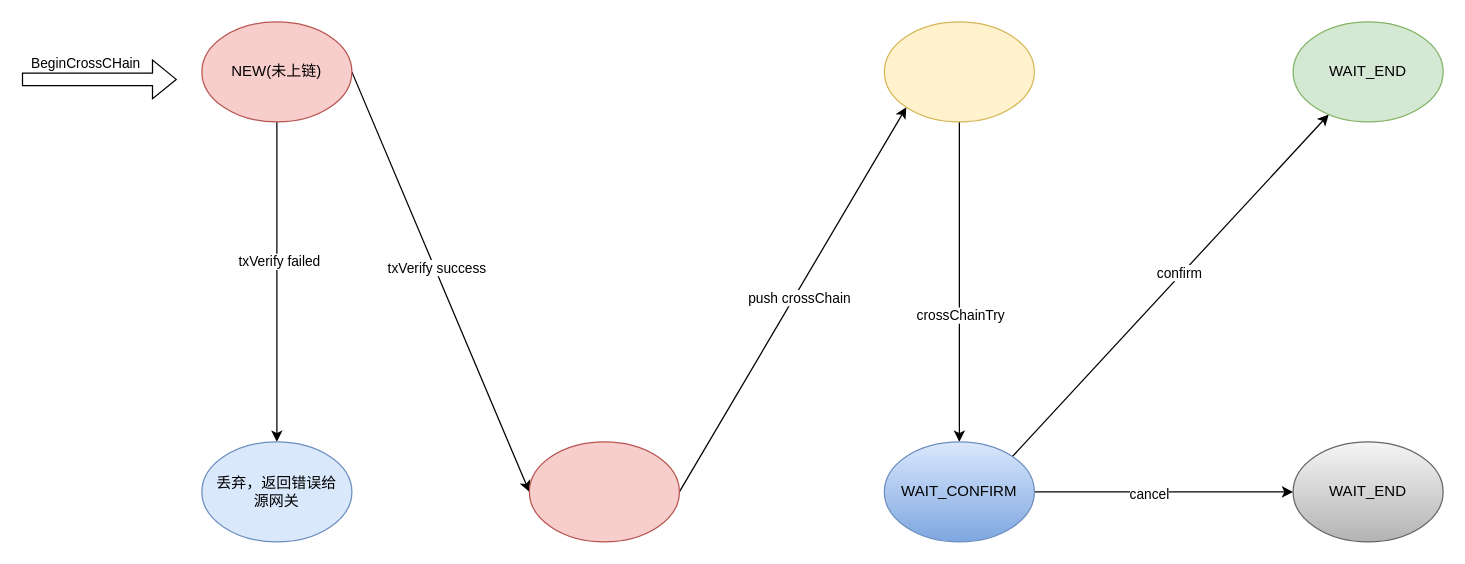
This 1465x564 diagram has some shape labels left out. Here are the shapes that lost their labels. From the top down, the centre of each, then its label:
At point (958, 71): "WAIT_EXECUTE".
At point (603, 491): "NEW(上链)".
